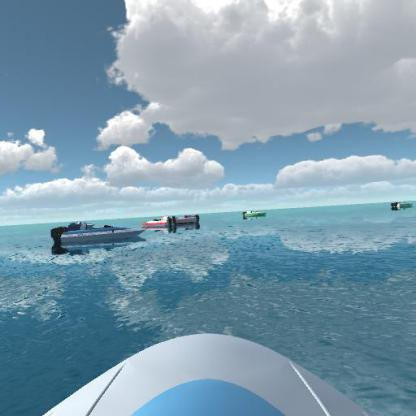usv0: (240, 206, 270, 222), (387, 196, 415, 211)
usv1: (48, 223, 150, 253), (68, 214, 100, 230)
usv3: (141, 213, 180, 233), (164, 211, 203, 224)
